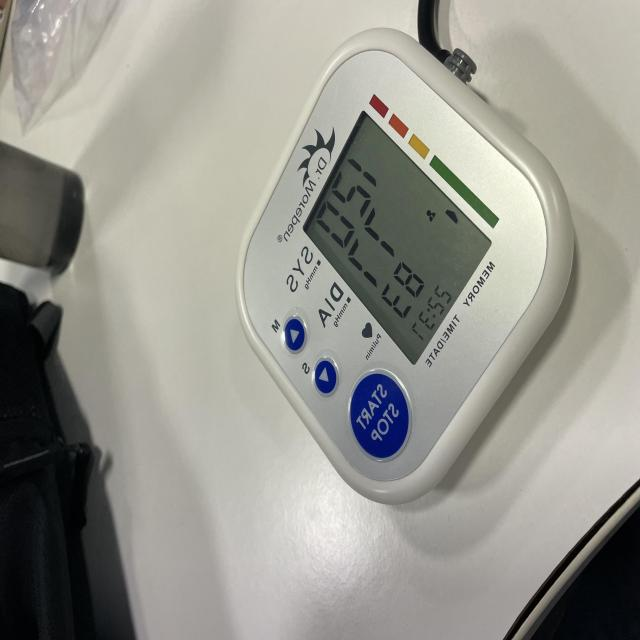bp: (236, 29, 577, 509)
